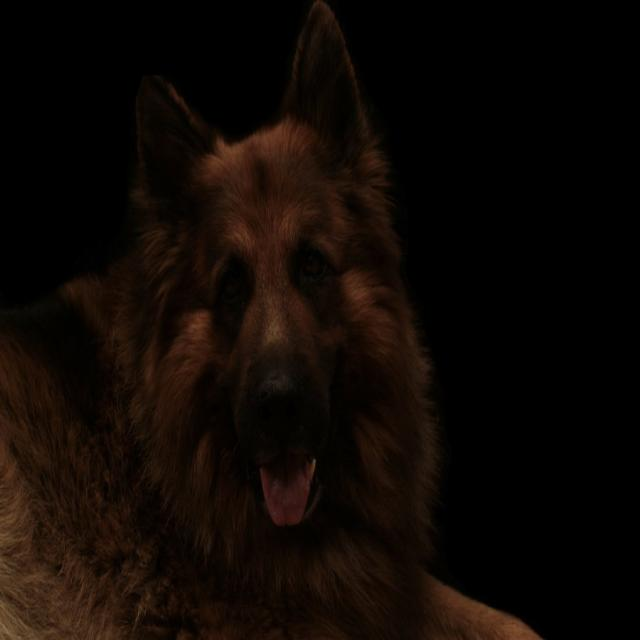dog: (122, 44, 436, 640)
